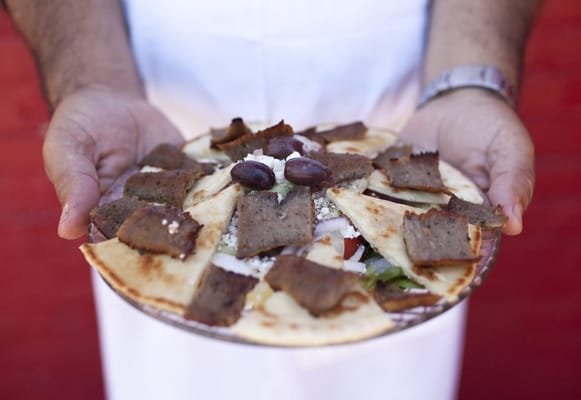pizza: (15, 0, 563, 246), (2, 2, 184, 241)
